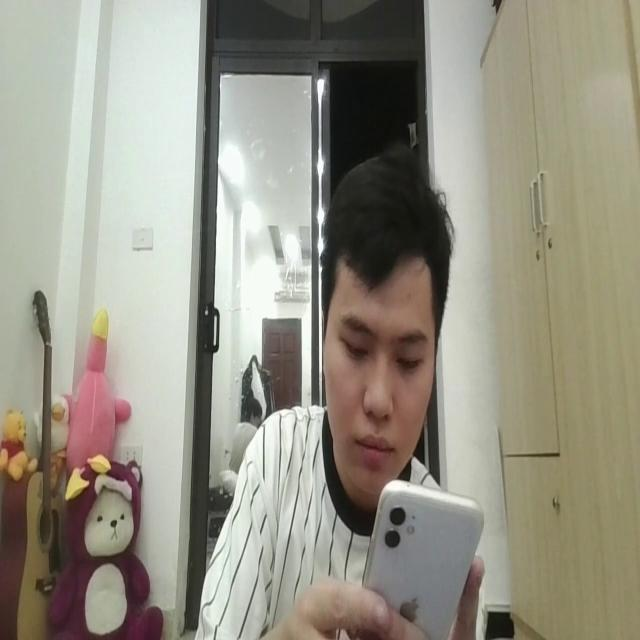phone: (358, 471, 486, 636)
student: (196, 144, 491, 640)
